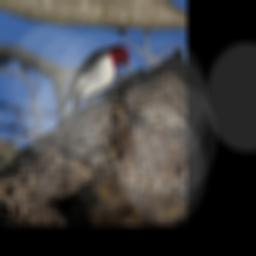Woodpecker: (55, 28, 143, 135)
